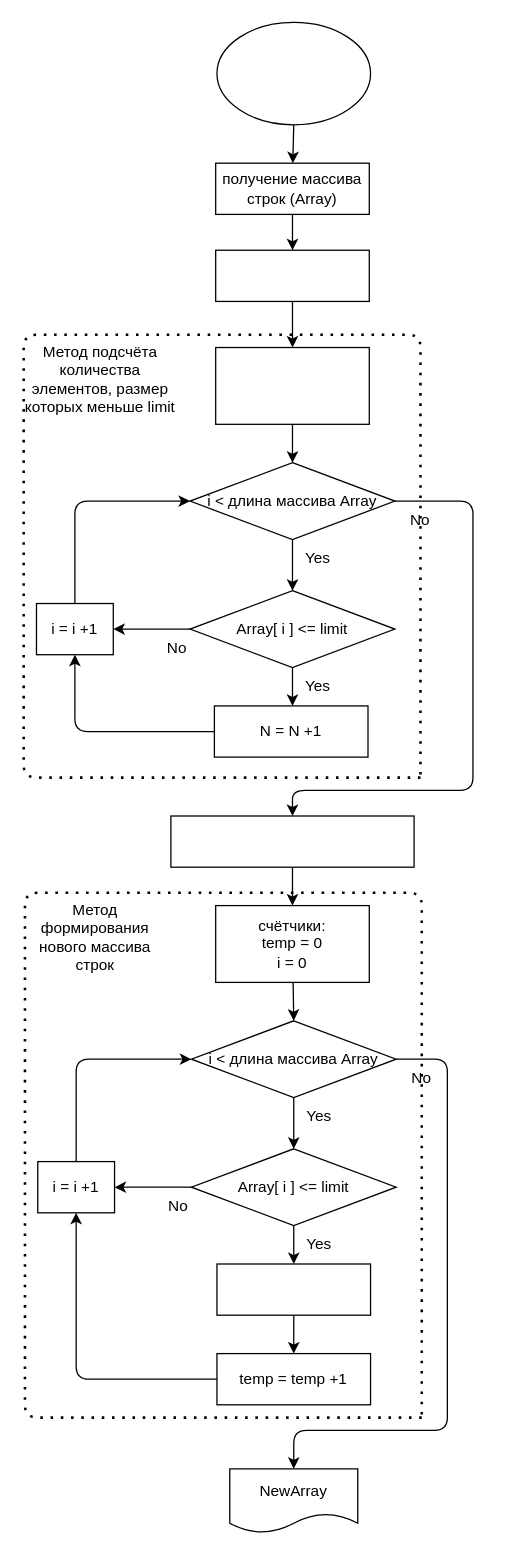
This 506x1555 diagram has some shape labels left out. The box of each missing label's shape, as (x1, y1, x2, y2) in pixels:
limit = 3: (214, 249, 369, 301)
NewArray[ temp] = array[ i ]: (216, 1263, 371, 1315)
инициализация нового массива(NewArray), размером N: (170, 815, 414, 867)
Начало: (216, 21, 371, 125)
счётчики: N= 0 i = 0: (214, 346, 369, 424)
